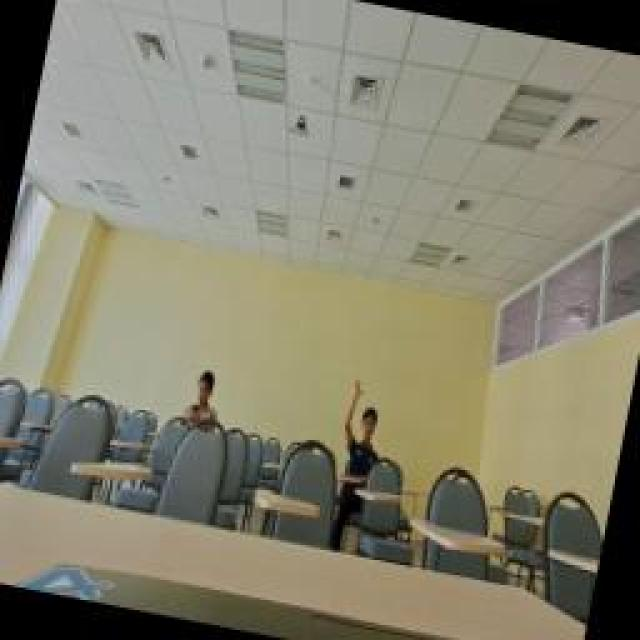phone: (180, 367, 225, 435)
study: (337, 378, 395, 478)
